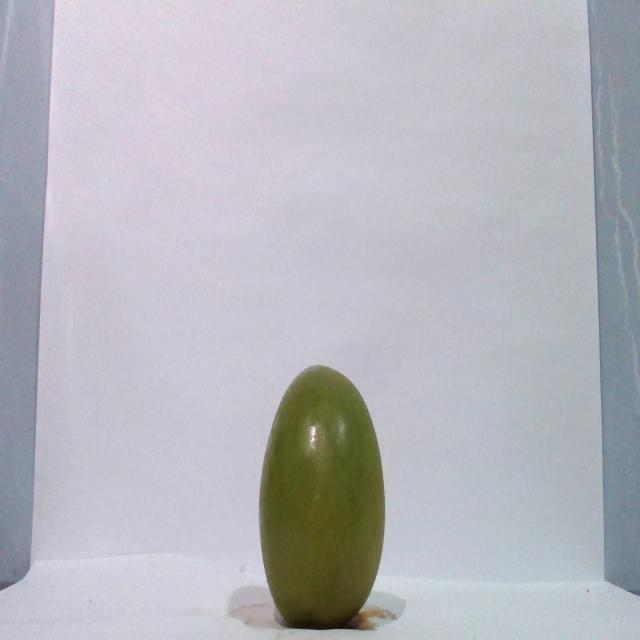Red: (257, 362, 386, 628)
